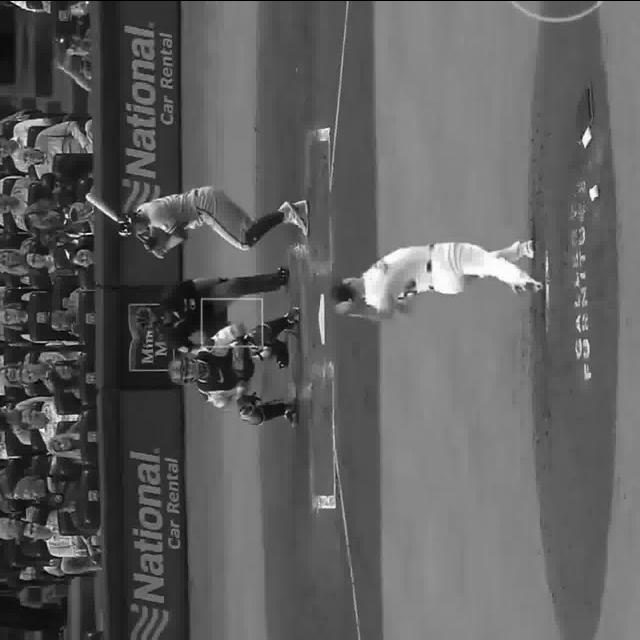base: (316, 292, 328, 344)
baseball: (342, 299, 352, 307)
bat: (78, 187, 167, 258)
shoe: (278, 199, 310, 234), (512, 276, 546, 294), (280, 402, 298, 424), (522, 236, 538, 258), (286, 304, 304, 322), (280, 268, 290, 286), (281, 342, 289, 363)
